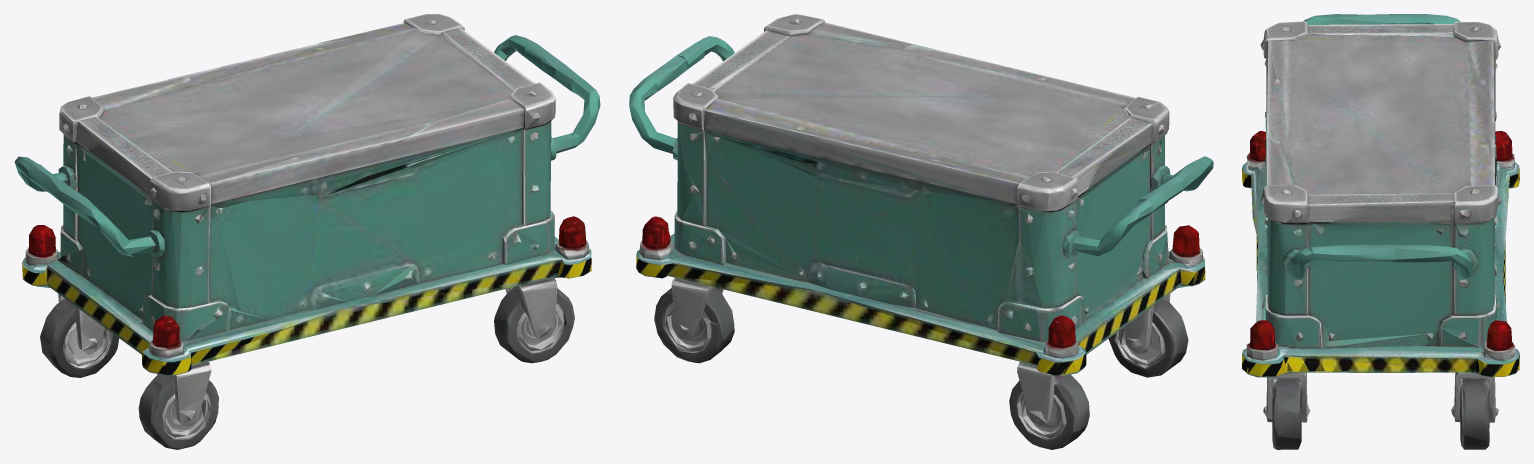
The model's file is prop-cart.glb.
3 renders of one model, left to right at view 1: azimuth 30°, elevation 25°; view 2: azimuth 150°, elevation 25°; view 3: azimuth 270°, elevation 25°, orthographic. The views are drawn at different scales.
Size of the model in its own units: 1.9 by 0.9496 by 0.9364.
Materials: 1 (1 with a texture image).
